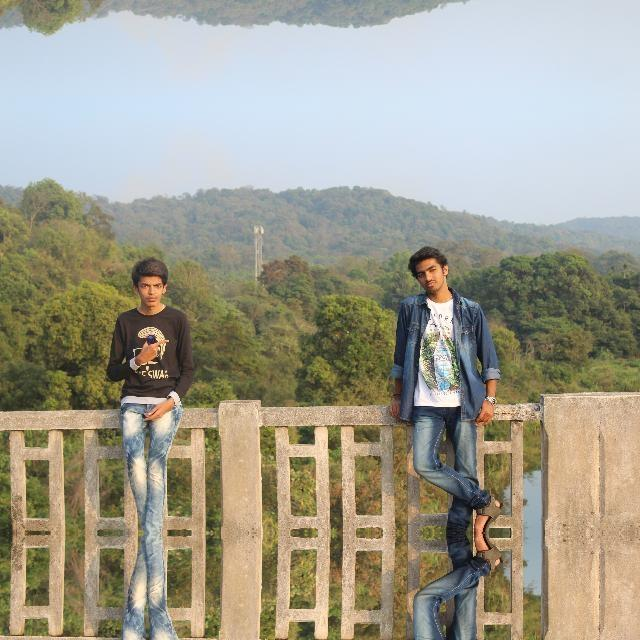person: (382, 233, 514, 532), (88, 232, 210, 532), (382, 532, 514, 640), (88, 533, 210, 640)
